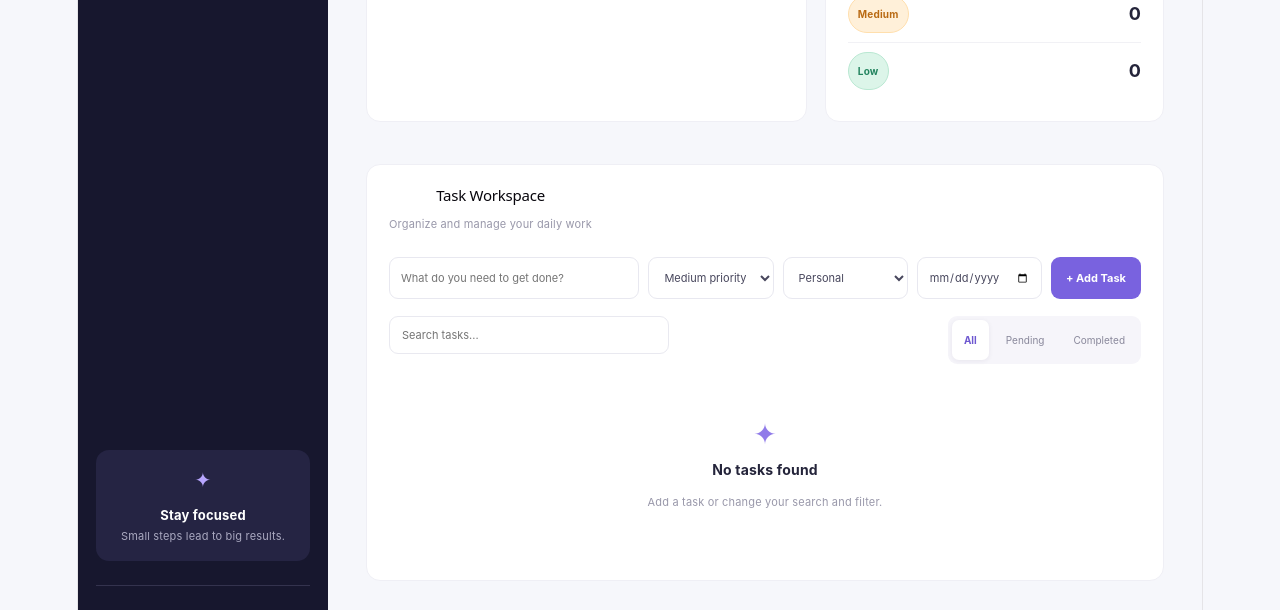
Test: TaskOrbit Application › allows a user to complete a task
This screenshot has width=1280, height=610.
(page scrolled)
Add a task.
Type "Complete React practice" into the field with placeholder "What do you need to get done?" at (514, 278), box [389,257,639,299]
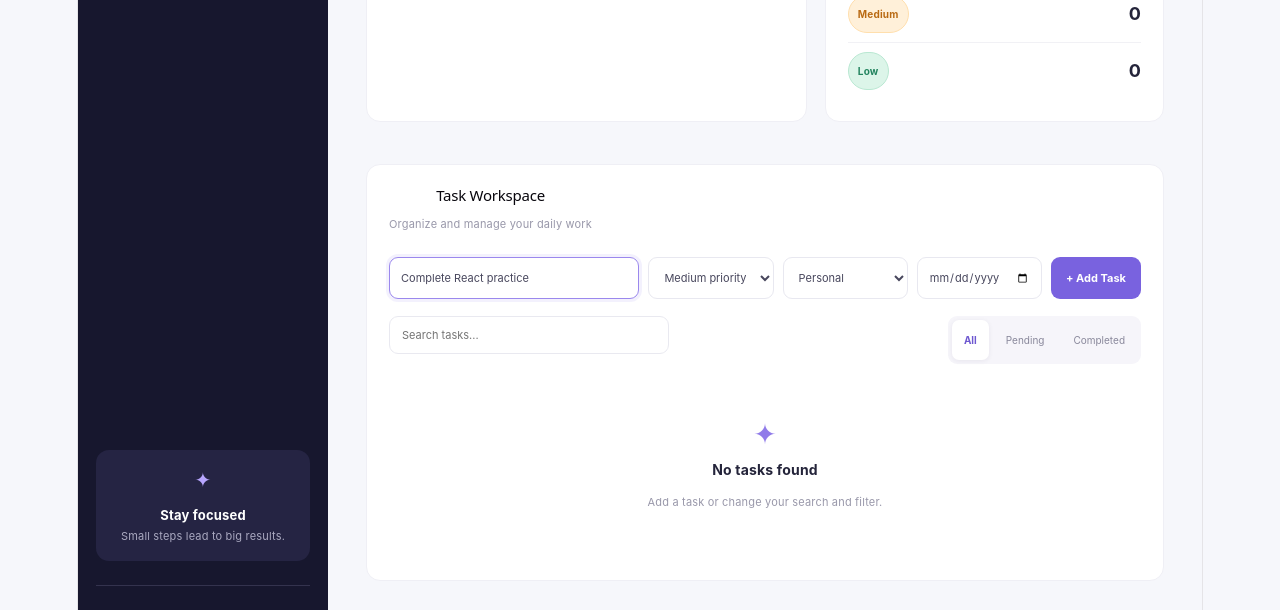
Click the button "+ Add Task" at (1096, 278), box [1051,257,1141,299]
(page scrolled)
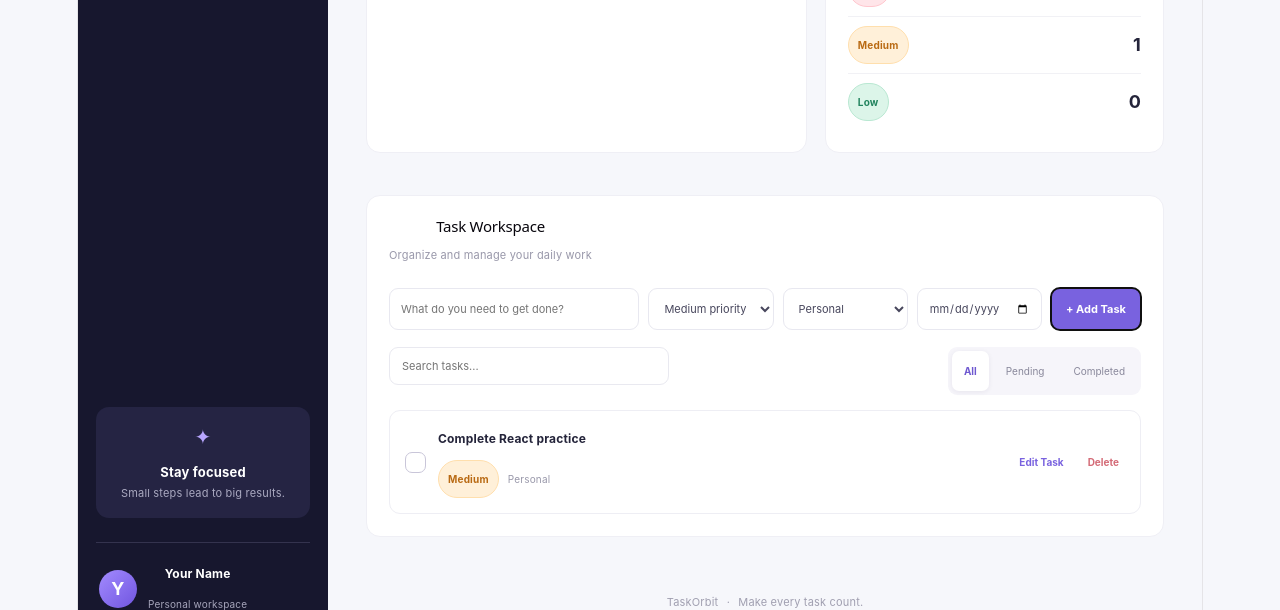
Click to complete the task.
Click the button named "Mark as complete" at (416, 462), box [405,452,426,473]
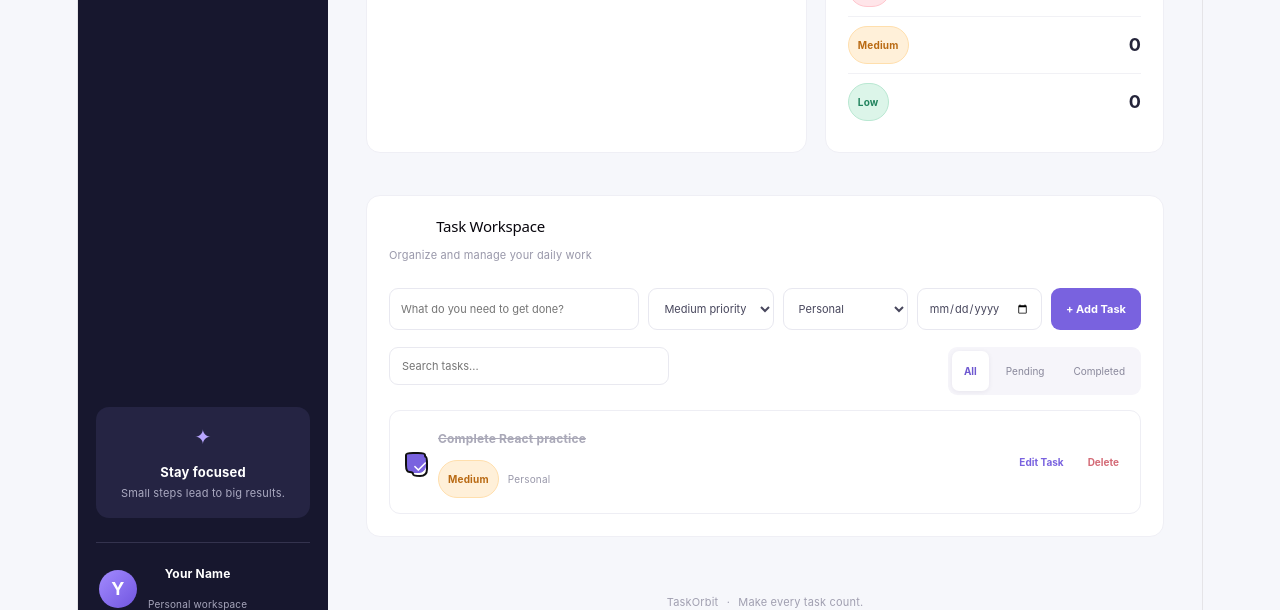
Expected: the button named "Mark as pending" is shown, [405,452,426,473]
